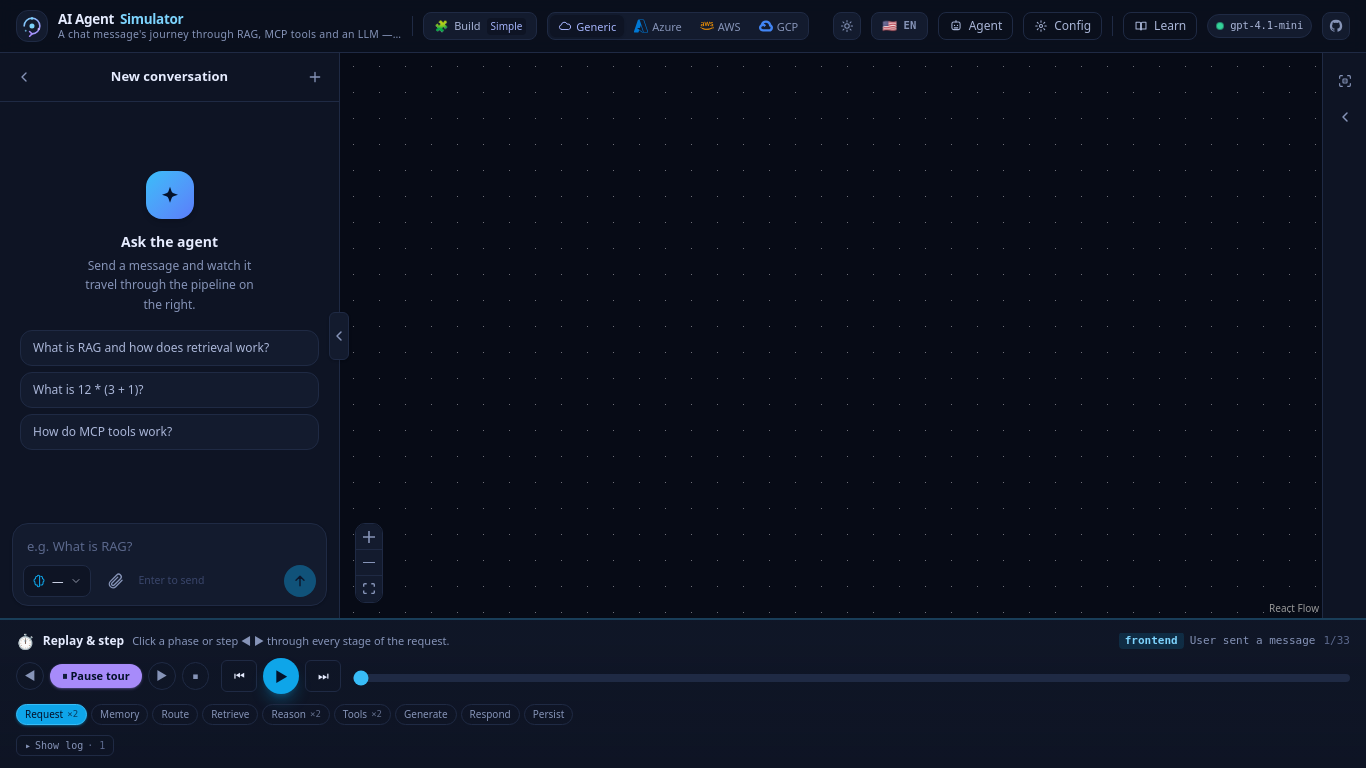
Test: App navigation — ⚙️ Config routes to a page (041) › AC1 — clicking ⚙️ from Sim renders the Settings page and unmounts the canvas
This screenshot has width=1366, height=768.
Note: Find the Config button by its title attribute (label may be hidden at narrow widths).
Click the button titled "Architecture options". click: (1063, 26)
box: [1023,12,1102,40]
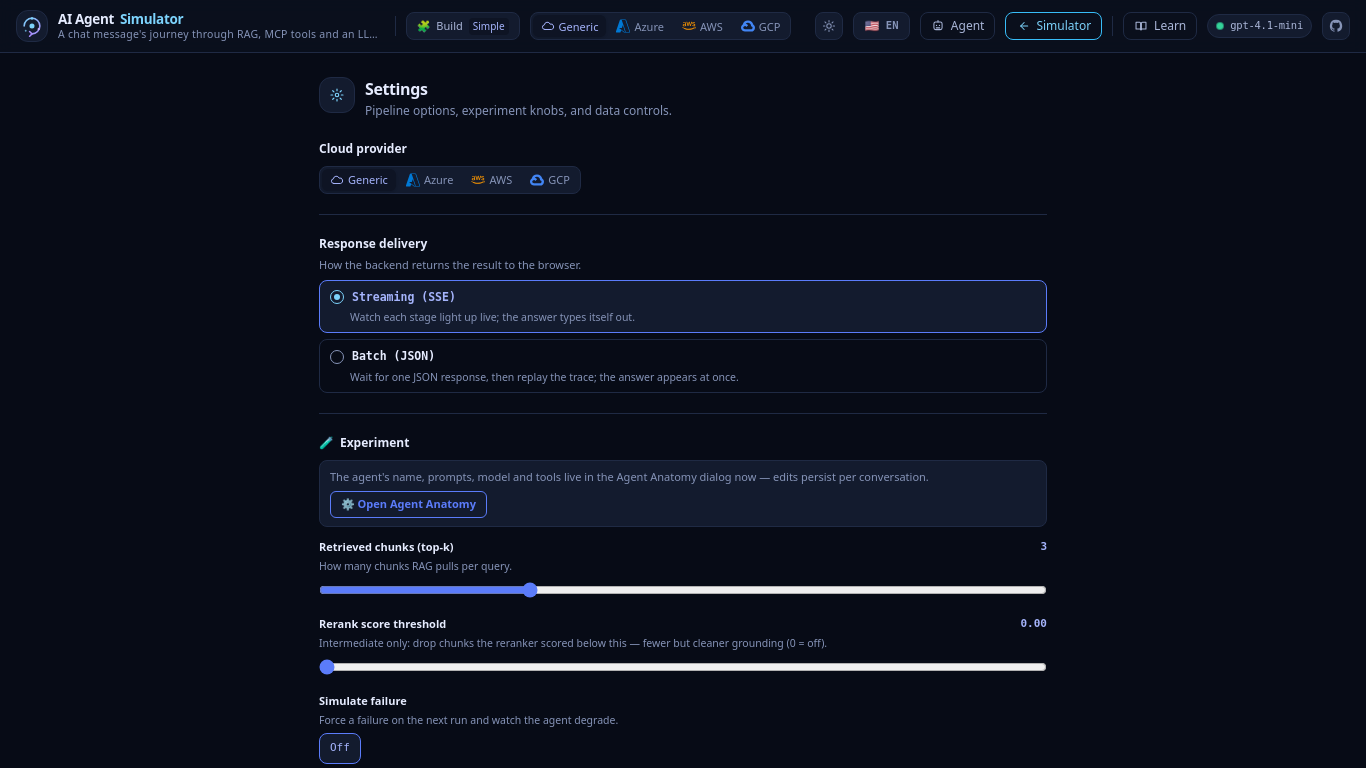
Check: the element with test id "settings-page" is shown
Check: the heading "Settings" is shown, box [365,78,427,100]
